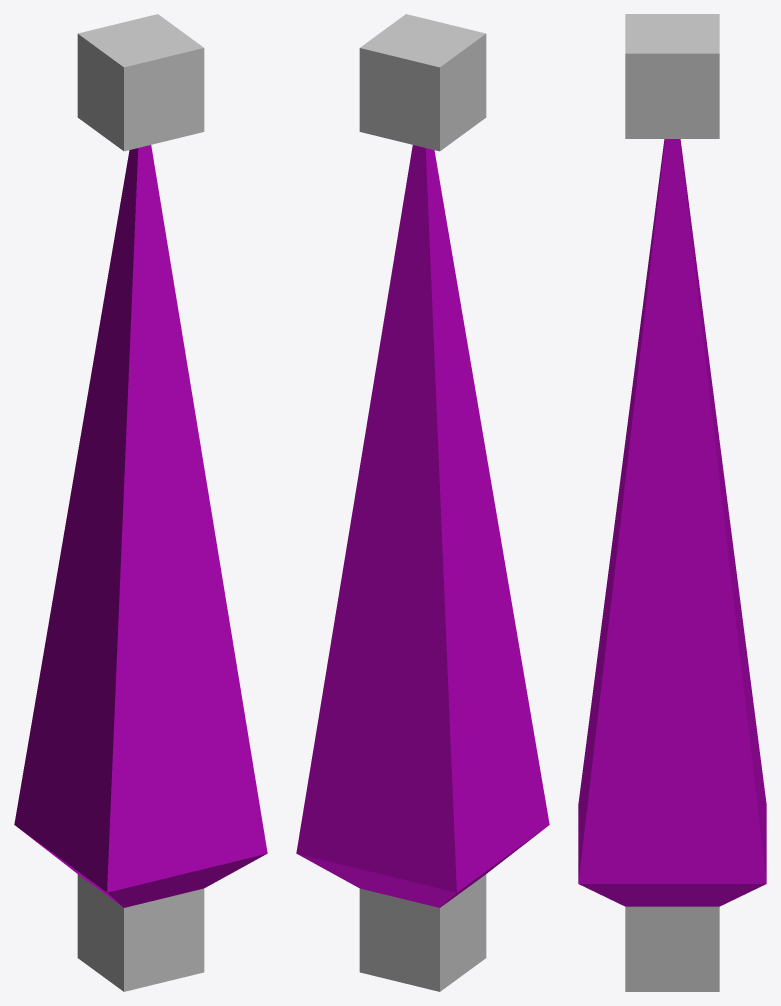
File: bone.obj
3 views of the same model, side by side, from view 1: azimuth 30°, elevation 25°; view 2: azimuth 150°, elevation 25°; view 3: azimuth 270°, elevation 25° (orthographic).
Parts seen in each view (by area): view 1: Cube_Cube.002; view 2: Cube_Cube.002; view 3: Cube_Cube.002.
Boxes of the visible parts, bbox=[...] form: Cube_Cube.002: bbox=[14, 14, 267, 991]; Cube_Cube.002: bbox=[296, 14, 549, 991]; Cube_Cube.002: bbox=[578, 14, 766, 991].
Size of the model in its own units: 0.2 by 1.1 by 0.2.
